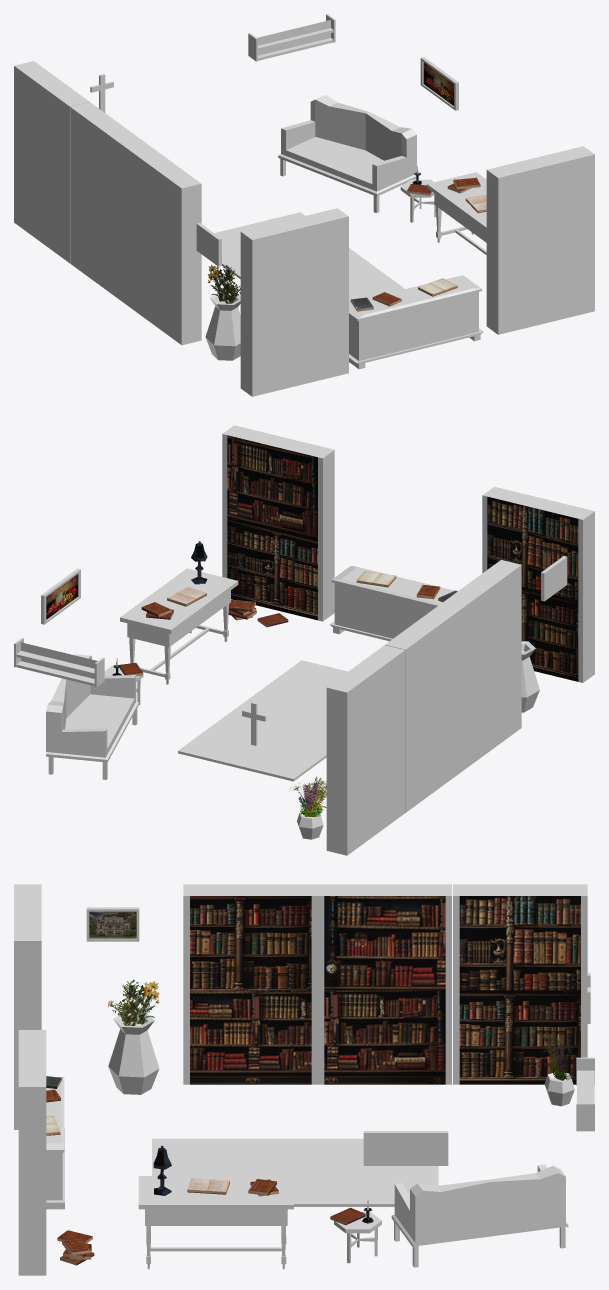
File: Library.fbx
The picture shows the model from 3 angles, top to bottom: view 1: azimuth 30°, elevation 25°; view 2: azimuth 150°, elevation 25°; view 3: azimuth 270°, elevation 25°; orthographic projection. The views are drawn at different scales.
Visible parts, largest first — view 1: Plane.133, Plane.141, Plane.143, Plane.132, Plane.140, Plane.144, Plane.139, Plane.138, Plane.135, Plane.137, Plane.134, Plane.136 (+7 smaller); view 2: Plane.133, Plane.142, Plane.141, Plane.132, Plane.135, Plane.143, Plane.134, Plane.137, Plane.139, Plane.140, Plane.145, Plane.144 (+7 smaller); view 3: Plane.139, Plane.135, Plane.137, Plane.138, Plane.136, Plane.142, Plane.134, Plane.143, Plane.145, Plane.133, Circle.075, Plane.141 (+9 smaller).
Part boxes in pixels (x1,y1,x2,y2): Plane.133: (486, 146, 594, 256); Plane.141: (240, 208, 348, 318); Plane.143: (278, 95, 416, 212); Plane.132: (486, 233, 594, 334); Plane.140: (240, 295, 348, 396); Plane.144: (349, 275, 483, 369); Plane.139: (126, 143, 201, 266); Plane.138: (126, 226, 201, 345); Plane.135: (14, 61, 89, 184); Plane.137: (70, 102, 145, 225); Plane.134: (14, 144, 70, 263); Plane.136: (70, 185, 125, 304); Plane.133: (222, 425, 334, 539); Plane.142: (178, 660, 347, 781); Plane.141: (482, 486, 594, 601); Plane.132: (222, 515, 334, 621); Plane.135: (326, 645, 405, 773); Plane.143: (46, 654, 138, 779); Plane.134: (326, 732, 405, 855); Plane.137: (385, 602, 463, 731); Plane.139: (443, 560, 521, 688); Plane.140: (521, 586, 594, 682); Plane.145: (120, 568, 238, 684); Plane.144: (329, 566, 454, 641); Plane.139: (183, 884, 317, 990); Plane.135: (453, 884, 587, 990); Plane.137: (317, 884, 451, 990); Plane.138: (183, 990, 317, 1084); Plane.136: (317, 990, 451, 1084); Plane.142: (152, 1138, 438, 1206); Plane.134: (453, 990, 587, 1084); Plane.143: (391, 1164, 568, 1267); Plane.145: (138, 1176, 293, 1269); Plane.133: (18, 1030, 46, 1181); Circle.075: (108, 979, 159, 1094); Plane.141: (14, 884, 41, 1035).
Bounding box in the file's own units: 900 × 383 × 1058.
